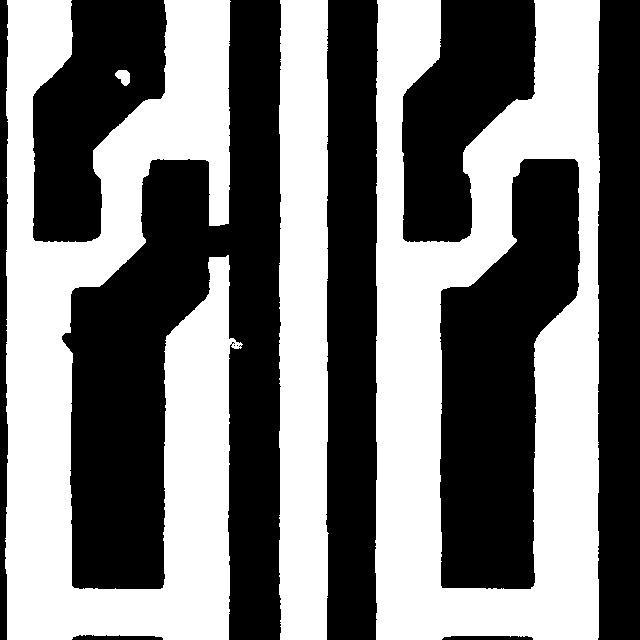mousebite: (213, 328, 252, 358)
pin-hole: (105, 60, 139, 95)
short: (185, 214, 246, 266)
spur: (52, 323, 92, 365)
